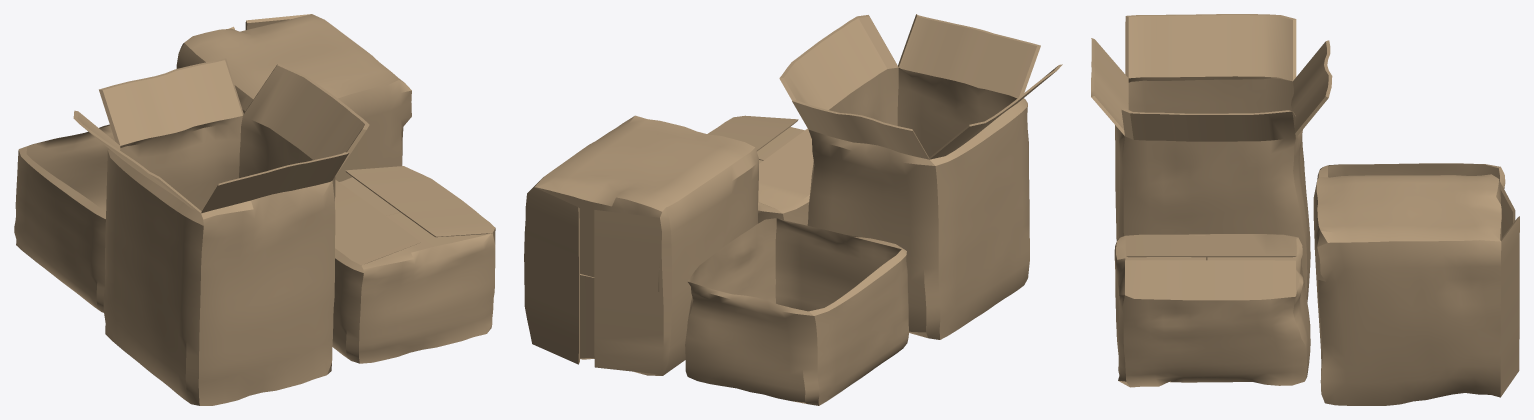
The model's file is kardus.fbx.
3 renders of one model, left to right at view 1: azimuth 30°, elevation 25°; view 2: azimuth 150°, elevation 25°; view 3: azimuth 270°, elevation 25°, orthographic. The views are drawn at different scales.
Parts seen in each view (by area): view 1: Mesh_0.001, Mesh_0.002, Mesh_0.004, Mesh_0.003; view 2: Mesh_0.001, Mesh_0.004, Mesh_0.003, Mesh_0.002; view 3: Mesh_0.004, Mesh_0.001, Mesh_0.002, Mesh_0.003.
Part boxes in pixels (x1,y1,x2,y2): Mesh_0.001: (73,58,369,405); Mesh_0.002: (332,166,495,363); Mesh_0.004: (176,14,411,181); Mesh_0.003: (14,124,115,312); Mesh_0.001: (779,14,1062,339); Mesh_0.004: (524,115,758,375); Mesh_0.003: (685,218,908,405); Mesh_0.002: (707,115,813,225); Mesh_0.004: (1313,174,1519,405); Mesh_0.001: (1091,14,1332,301); Mesh_0.002: (1114,234,1310,387); Mesh_0.003: (1317,163,1505,188).
Bounding box in the file's own units: 125 × 80.48 × 135.
